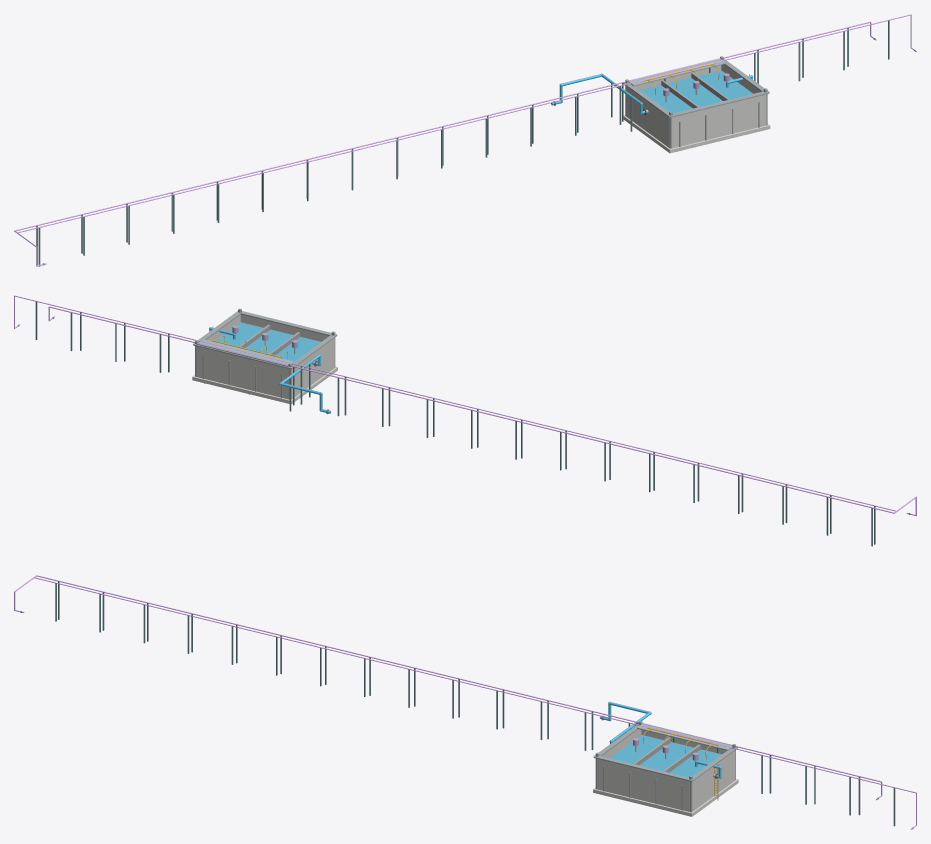
3 views of the same model, one above another, from view 1: azimuth 30°, elevation 25°; view 2: azimuth 150°, elevation 25°; view 3: azimuth 330°, elevation 25° (orthographic).
Parts seen in each view (by area): view 1: render-batch-8, render-batch-7, render-batch-3, render-batch-2, render-batch-4, render-batch-5, render-batch-0; view 2: render-batch-8, render-batch-3, render-batch-7, render-batch-4, render-batch-2, render-batch-5, render-batch-0; view 3: render-batch-8, render-batch-7, render-batch-3, render-batch-2, render-batch-4, render-batch-5.
Part boxes in pixels (x1,y1,x2,y2): render-batch-8: (623, 64, 770, 153); render-batch-7: (14, 14, 916, 266); render-batch-3: (36, 20, 915, 266); render-batch-2: (640, 70, 752, 113); render-batch-4: (623, 56, 769, 148); render-batch-5: (629, 58, 726, 113); render-batch-0: (551, 73, 753, 114); render-batch-8: (192, 314, 337, 404); render-batch-3: (17, 301, 910, 546); render-batch-7: (14, 295, 916, 516); render-batch-4: (193, 308, 337, 399); render-batch-2: (215, 322, 320, 361); render-batch-5: (197, 333, 314, 366); render-batch-0: (209, 327, 330, 413); render-batch-8: (593, 729, 738, 816); render-batch-7: (14, 575, 916, 829); render-batch-3: (20, 581, 913, 829); render-batch-2: (610, 734, 721, 777); render-batch-4: (593, 721, 737, 812); render-batch-5: (635, 723, 732, 777).
Bounding box in the file's own units: 118 × 5.47 × 14.68.
